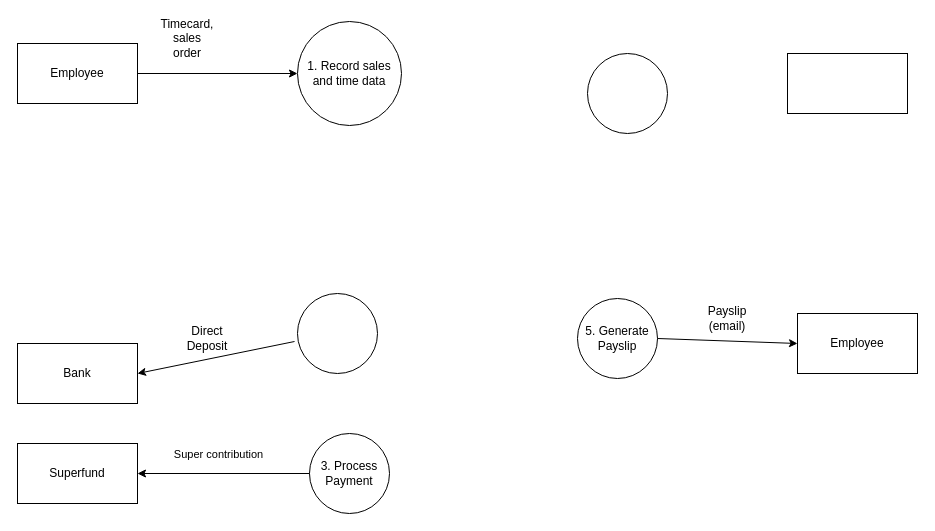
Image size: 935x531. Some labels were removed from this diagram. The centre of each missing label's shape, as x and y in pixels:
2. Calculate pay: (337,333)
4. Manage employee details: (627,93)
Payroll staff: (847,83)
